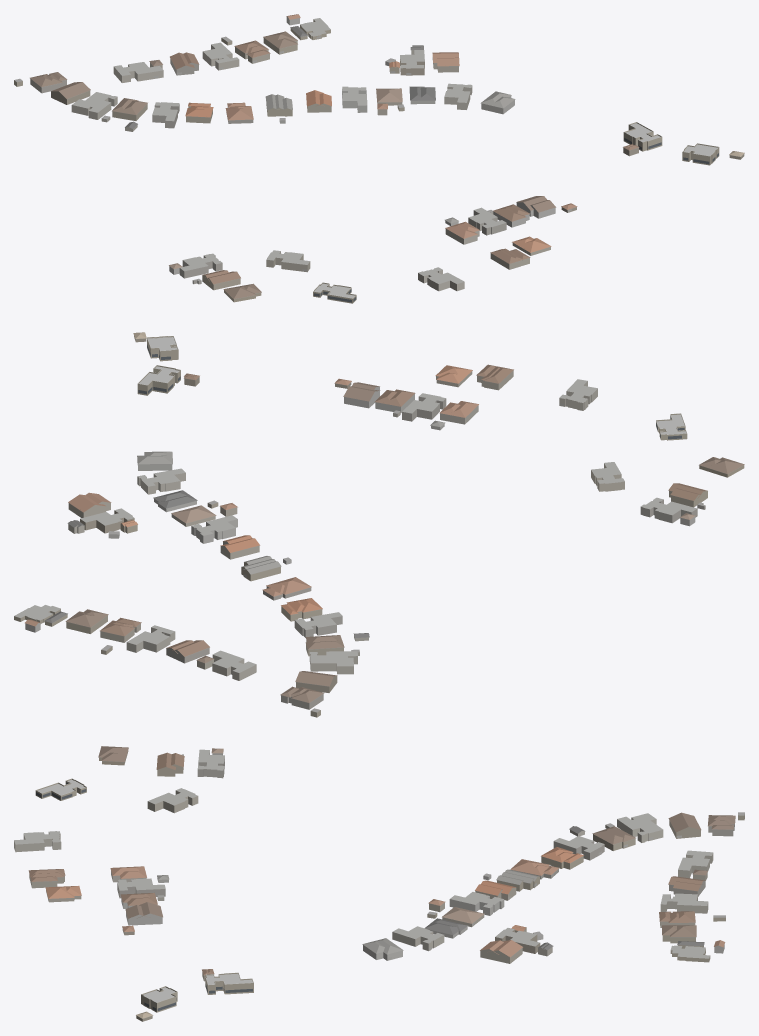
Rendered from buildings_r6_c3.glb.
3 views of the same model, one above another, from view 1: azimuth 30°, elevation 25°; view 2: azimuth 150°, elevation 25°; view 3: azimuth 270°, elevation 25° (orthographic). The views are drawn at different scales.
Visible parts, largest first — view 1: buildings_r6_c3; view 2: buildings_r6_c3; view 3: buildings_r6_c3.
Part boxes in pixels (x1,y1,x2,y2): buildings_r6_c3: [14, 14, 744, 303]; buildings_r6_c3: [14, 332, 744, 717]; buildings_r6_c3: [14, 746, 744, 1021].
Size of the model in its own units: 605 by 38.39 by 668.
